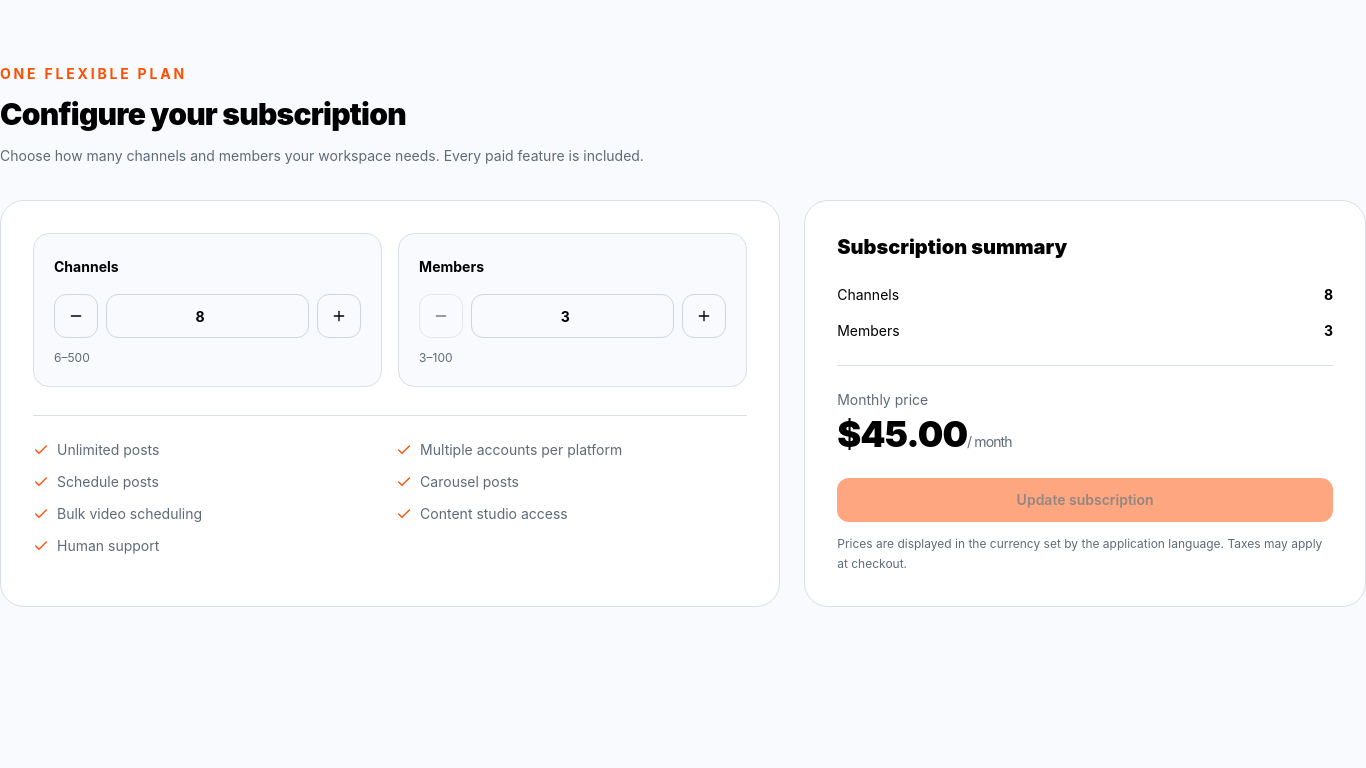
Scenario: SubscriptionConfigurator › does not let an active subscription be reduced below current usage
Replace the text in the number field labelled "Channels" with "2" at [208, 316], box [106,294,309,338]
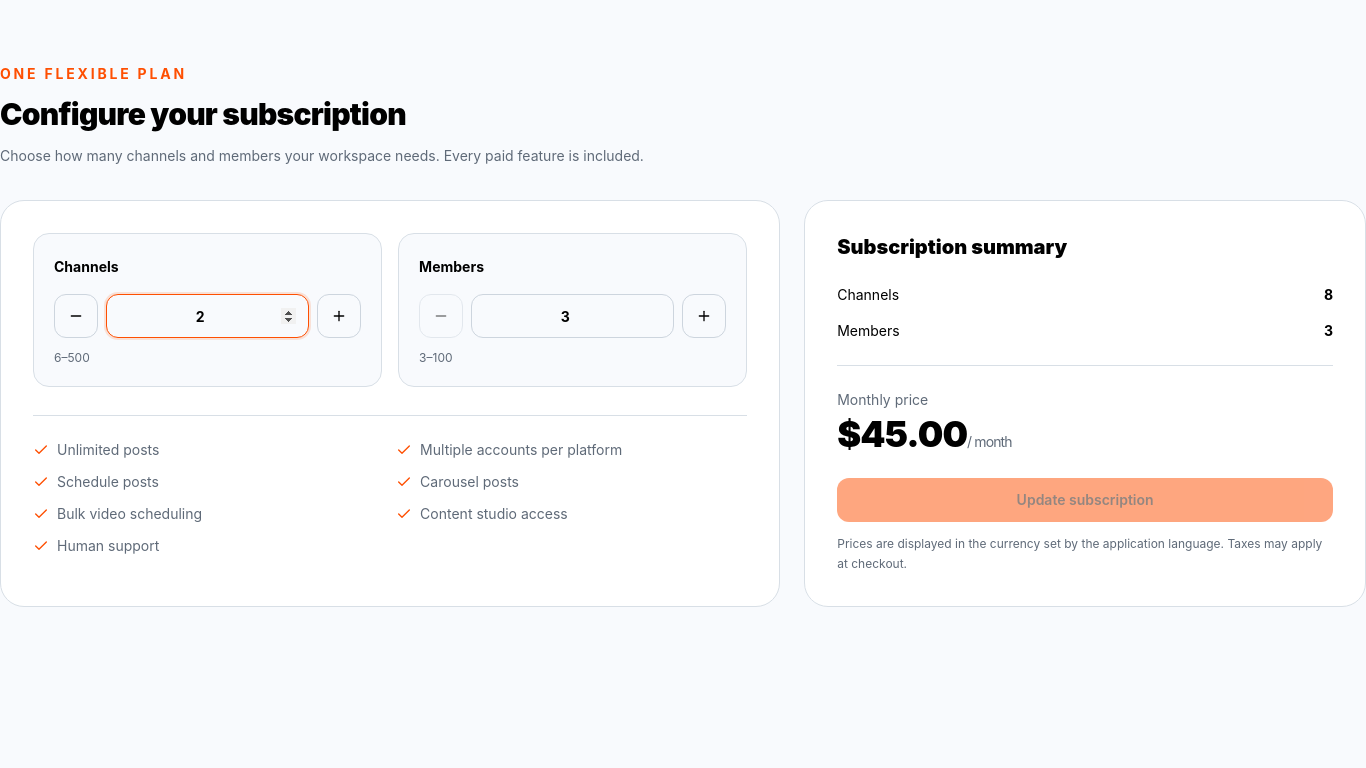
Press Tab
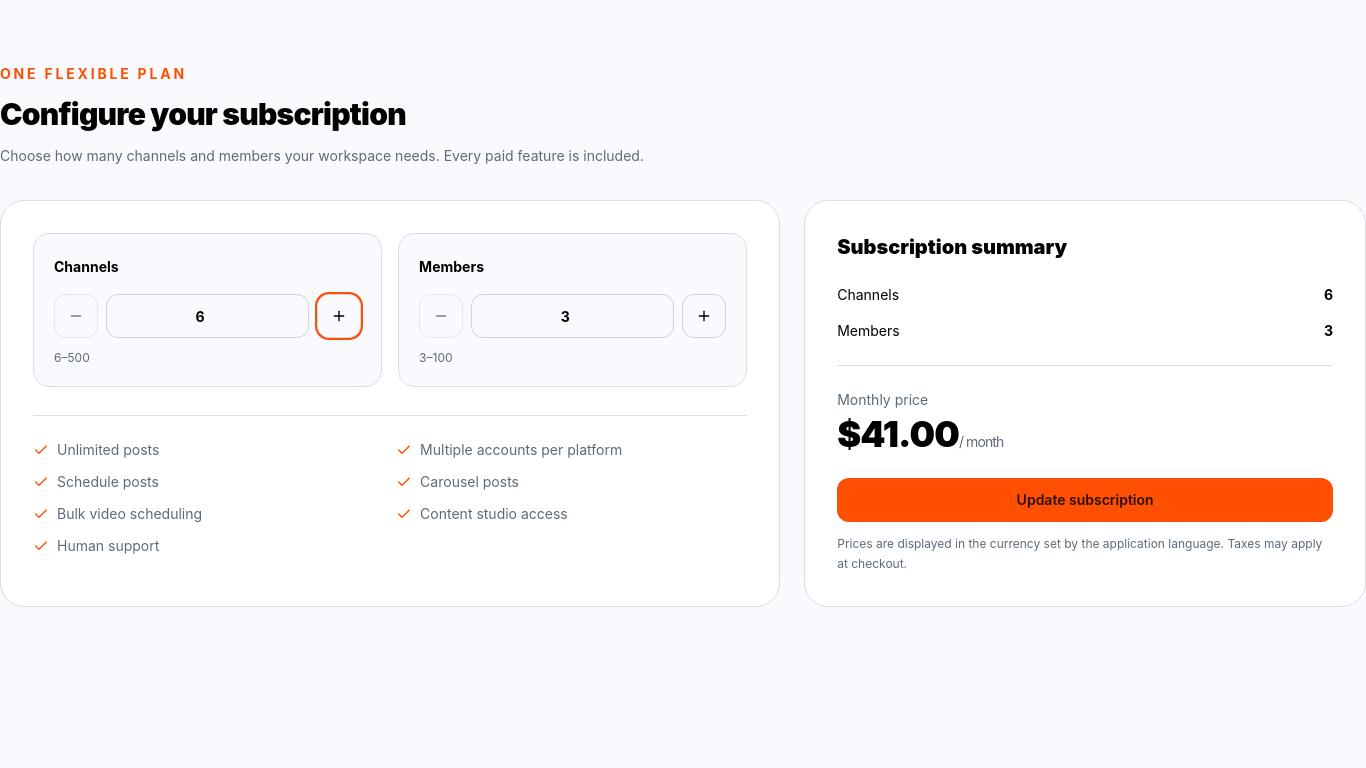
Check: the number field labelled "Channels" holds "6", box [106,294,309,338]
Click the button named "Decrease members".
click(441, 316)  # box [419,294,463,338]
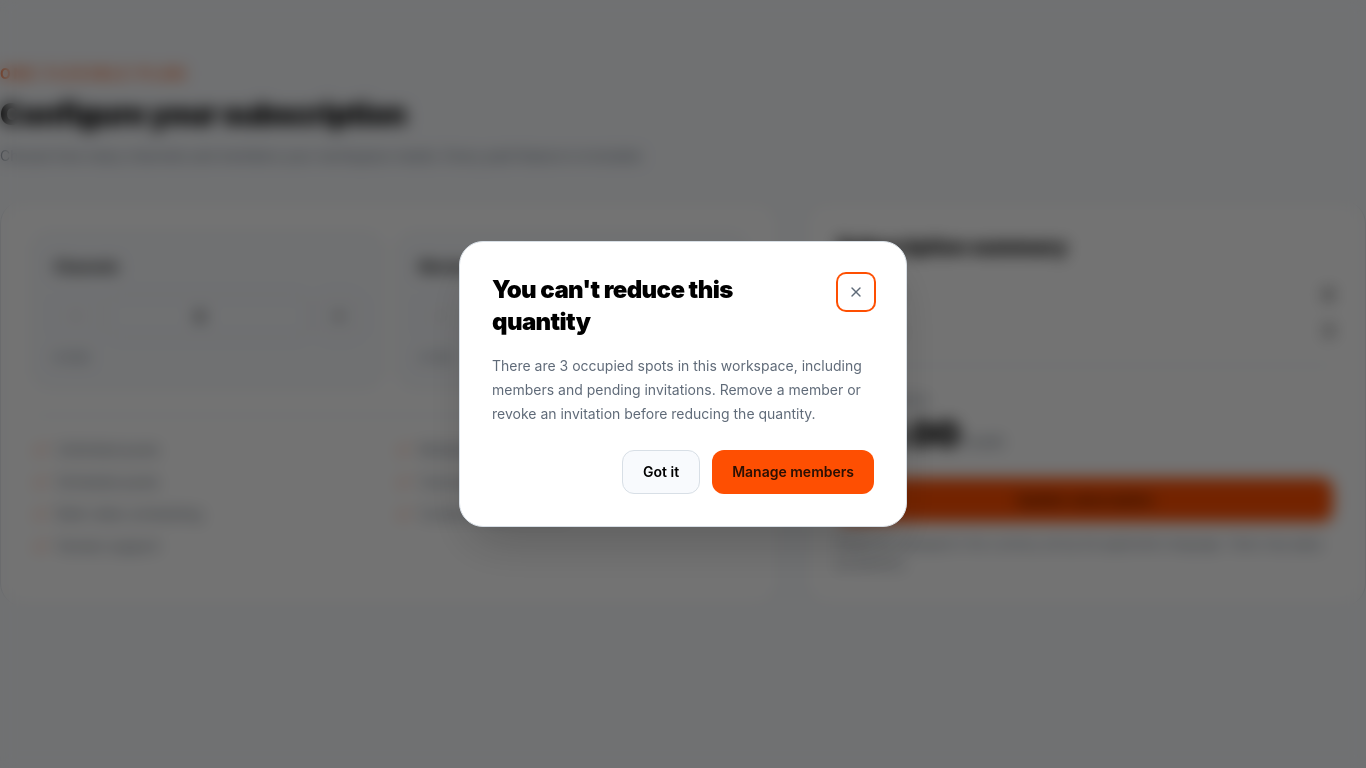
Check: the dialog is shown, box [459,241,907,527]
